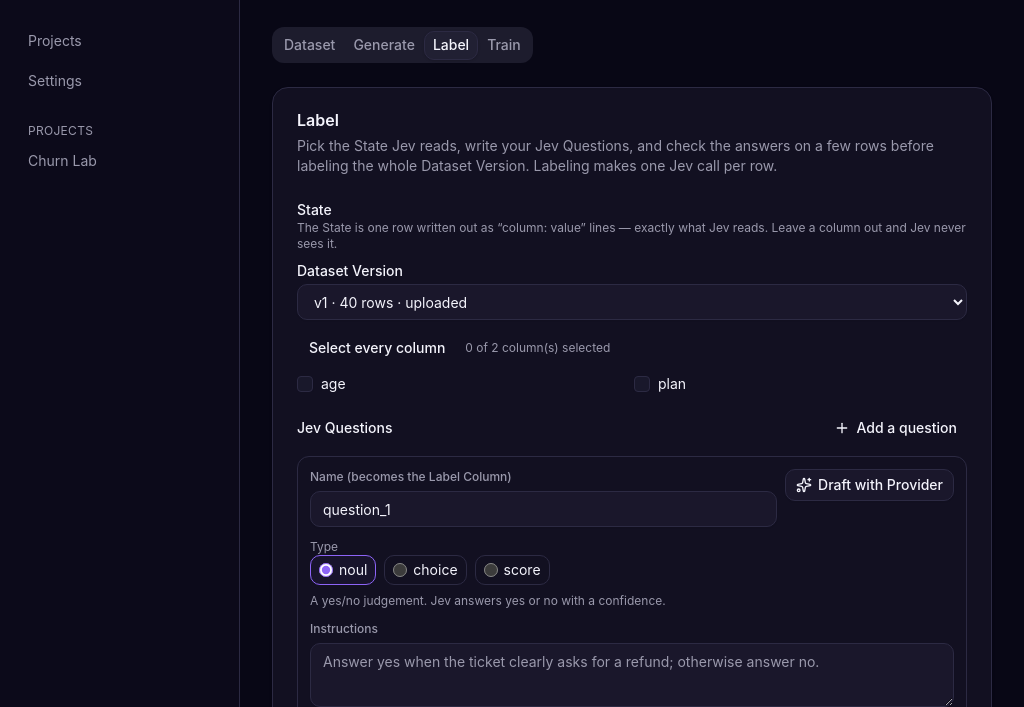
Test: Label step — building questions by hand › shows the matching editor for each type, and explains the type
Expected: the text "A yes/no judgement. Jev answers yes or no with a confidence." is shown, [310, 593, 666, 608]
Click the radio button labelled "choice". click: point(400, 570)
box: [393, 563, 407, 577]
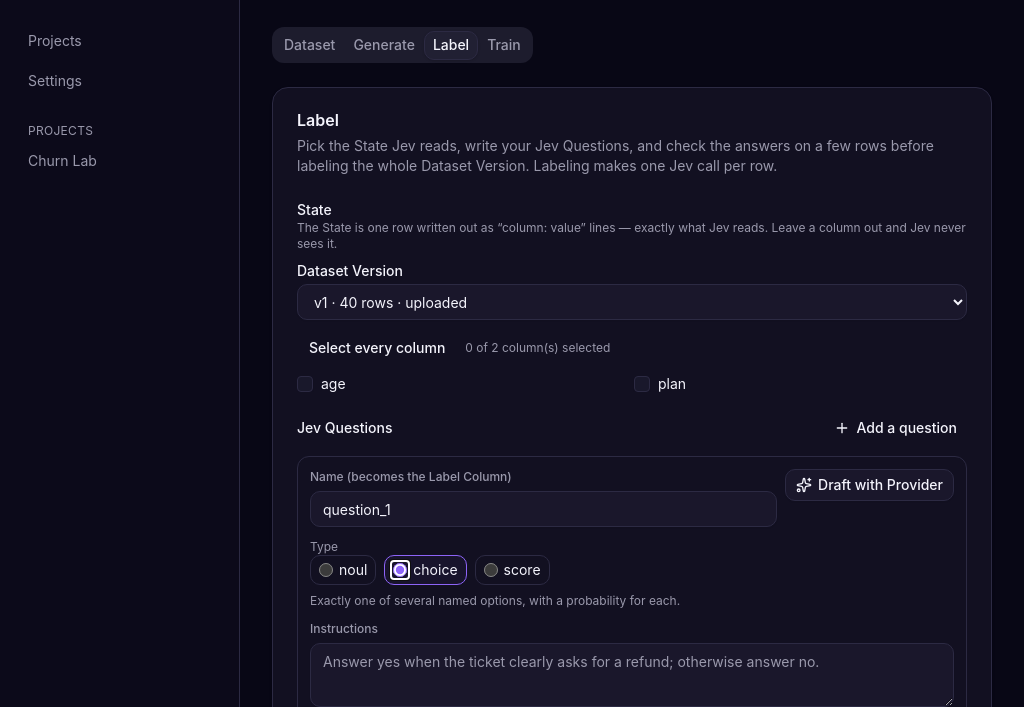
Result: the text "Exactly one of several named options" is shown at [310, 593, 680, 608]
Click the radio button labelled "score". click: point(491, 570)
box: [484, 563, 498, 577]
(page scrolled)
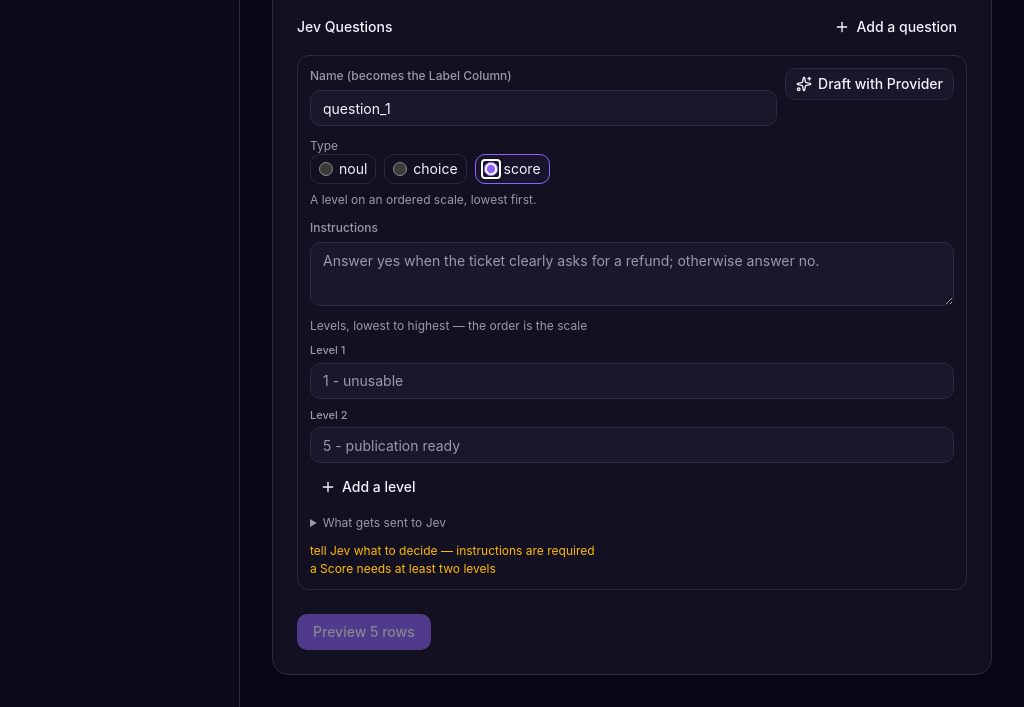
Result: the field labelled "Level 1" is shown at [310, 362, 954, 398]
Result: the text "Levels, lowest to highest — the order is the scale" is shown at [310, 318, 587, 333]
